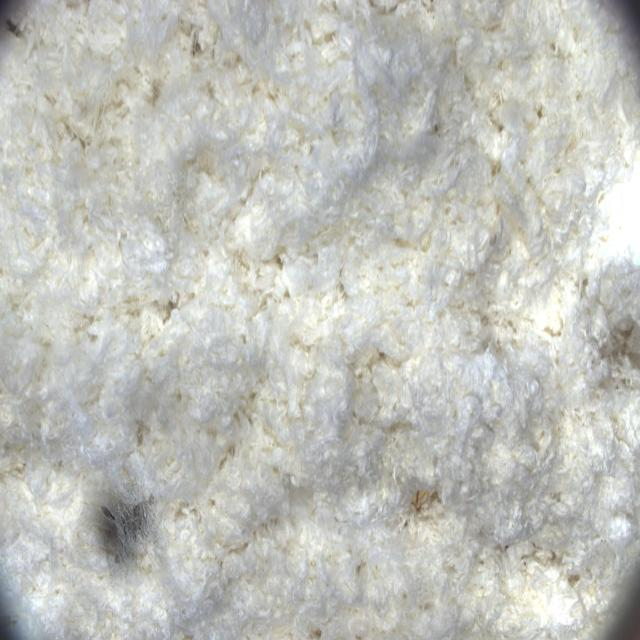dust: (25, 432, 195, 601)
